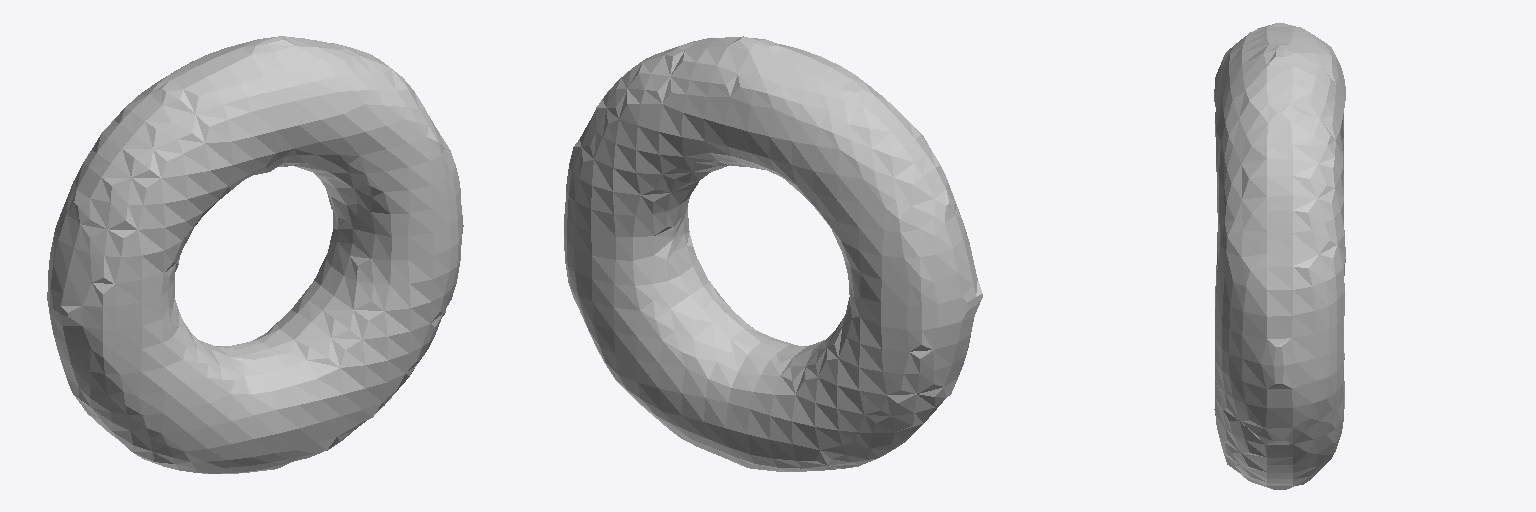
File: torus-messyB.obj
3 views of the same model, side by side, from view 1: azimuth 30°, elevation 25°; view 2: azimuth 150°, elevation 25°; view 3: azimuth 270°, elevation 25° (orthographic).
Visible parts, largest first — view 1: torus-messyB_Cylinder.005; view 2: torus-messyB_Cylinder.005; view 3: torus-messyB_Cylinder.005.
Boxes of the visible parts, x1=… form: torus-messyB_Cylinder.005: x1=47, y1=36, x2=463, y2=473; torus-messyB_Cylinder.005: x1=564, y1=36, x2=982, y2=471; torus-messyB_Cylinder.005: x1=1214, y1=23, x2=1345, y2=489.
Bounding box in the file's own units: 2.71 × 2.72 × 0.7694.